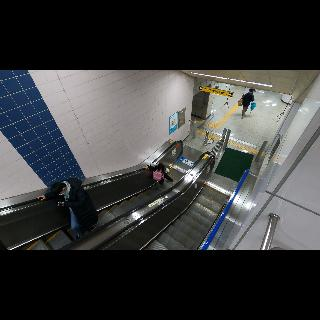normal: (36, 182, 100, 240), (142, 162, 174, 186), (240, 87, 256, 119)
